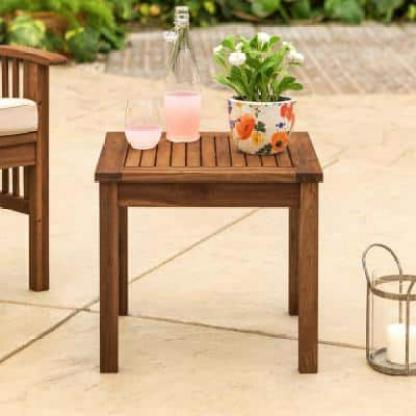table: (92, 122, 326, 380)
